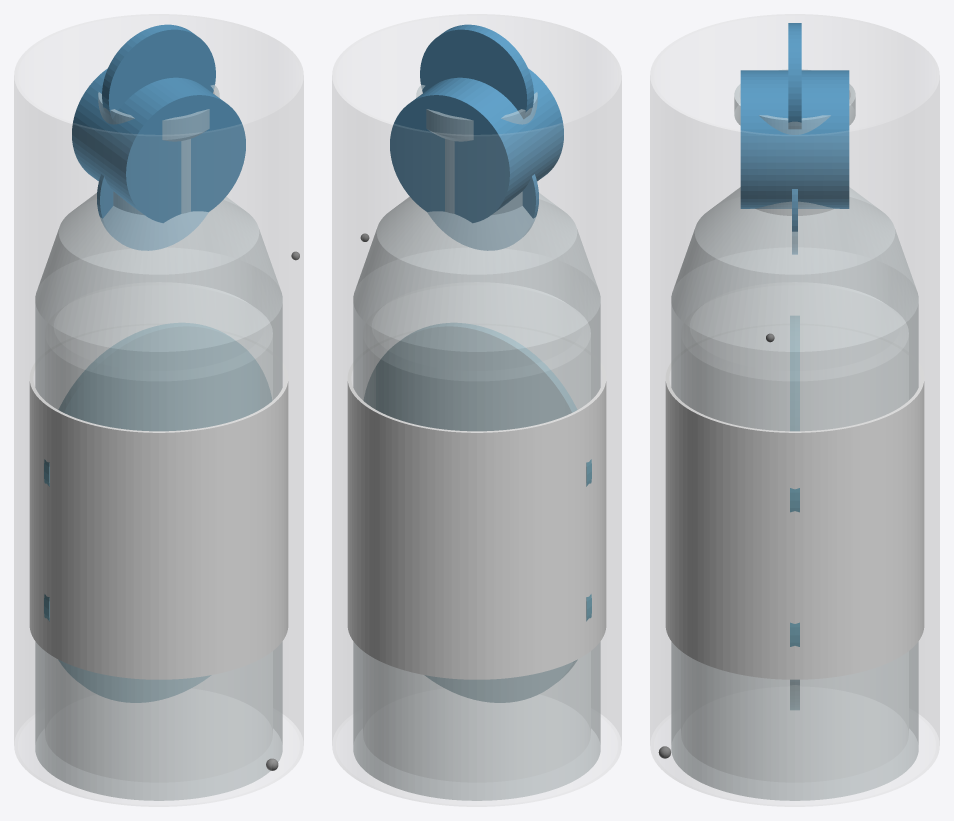
File: botella_embalaje.glb
3 views of the same model, side by side, from view 1: azimuth 30°, elevation 25°; view 2: azimuth 150°, elevation 25°; view 3: azimuth 270°, elevation 25° (orthographic).
Visible parts, largest first — view 1: embalaje_4, embalaje_3, embalaje_0, embalaje_1, embalaje_2; view 2: embalaje_4, embalaje_3, embalaje_0, embalaje_1, embalaje_2; view 3: embalaje_4, embalaje_0, embalaje_3, embalaje_1, embalaje_2.
Part boxes in pixels (x1,y1,x2,y2): embalaje_4: [14, 14, 303, 806]; embalaje_3: [29, 323, 288, 702]; embalaje_0: [35, 85, 282, 800]; embalaje_1: [45, 282, 272, 782]; embalaje_2: [72, 24, 245, 250]; embalaje_4: [332, 14, 621, 806]; embalaje_3: [347, 323, 606, 702]; embalaje_0: [353, 85, 600, 800]; embalaje_1: [363, 282, 590, 782]; embalaje_2: [390, 24, 563, 250]; embalaje_4: [650, 14, 939, 806]; embalaje_0: [671, 69, 918, 800]; embalaje_3: [665, 316, 924, 709]; embalaje_1: [681, 282, 908, 782]; embalaje_2: [740, 23, 849, 254].
Bounding box in the file's own units: 4.73 × 12.83 × 4.68.
Materials: 7 (1 with a texture image).
